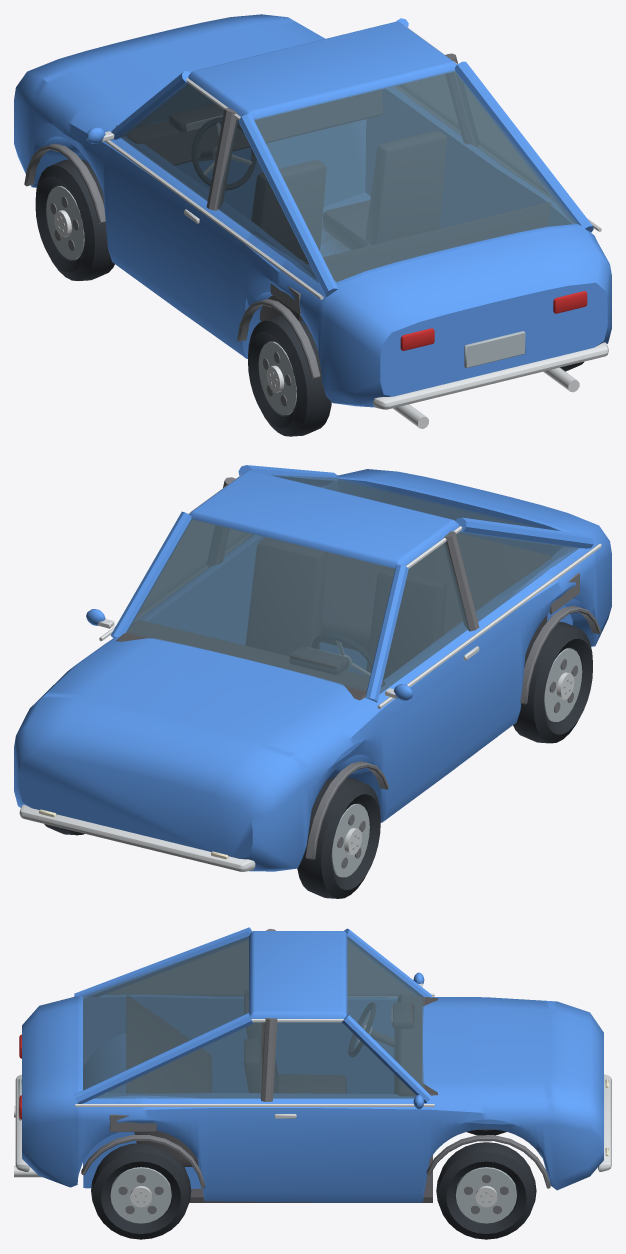
The model's file is Pebble.fbx.
The picture shows the model from 3 angles, top to bottom: view 1: azimuth 30°, elevation 25°; view 2: azimuth 150°, elevation 25°; view 3: azimuth 270°, elevation 25°; orthographic projection. The views are drawn at different scales.
Visible parts, largest first — view 1: Body__paint, Body__glass, Body__interior, Body__chrome, Body__engine, WheelRL__rubber, WheelFL__rubber, Body__metal, WheelFL__metal, WheelRL__metal, Body__tail, Steer__rubber; view 2: Body__paint, Body__glass, Body__interior, Body__engine, Body__chrome, WheelFL__rubber, WheelRL__rubber, WheelFL__metal, WheelRL__metal; view 3: Body__paint, Body__glass, Body__interior, WheelFR__rubber, WheelRR__rubber, Body__engine, Body__chrome, WheelRR__metal, WheelFR__metal.
Part boxes in pixels (box(x1,y1,x2,y2)): Body__paint: box(14, 14, 611, 407); Body__glass: box(119, 70, 577, 282); Body__interior: box(116, 90, 550, 321); Body__chrome: box(101, 26, 608, 428); Body__engine: box(24, 53, 474, 378); WheelRL__rubber: box(248, 315, 331, 436); WheelFL__rubber: box(35, 159, 114, 280); Body__metal: box(186, 115, 525, 368); WheelFL__metal: box(46, 186, 84, 259); WheelRL__metal: box(258, 341, 296, 415); Body__tail: box(400, 291, 587, 350); Steer__rubber: box(191, 117, 256, 189); Body__paint: box(14, 465, 611, 871); Body__glass: box(126, 475, 578, 694); Body__interior: box(116, 533, 550, 700); Body__engine: box(211, 477, 601, 859); Body__chrome: box(19, 474, 601, 872); WheelFL__rubber: box(297, 777, 380, 898); WheelRL__rubber: box(513, 622, 592, 743); WheelFL__metal: box(331, 804, 369, 877); WheelRL__metal: box(544, 648, 582, 721); Body__paint: box(22, 927, 603, 1202); Body__glass: box(82, 936, 424, 1098); Body__interior: box(126, 991, 437, 1202); WheelFR__rubber: box(436, 1142, 536, 1239); WheelRR__rubber: box(91, 1143, 191, 1239); Body__engine: box(81, 929, 550, 1188); Body__chrome: box(14, 983, 611, 1177); WheelRR__metal: box(110, 1167, 171, 1223); WheelFR__metal: box(455, 1167, 516, 1223).
Bounding box in the file's own units: 1.94 × 1.51 × 3.81.
